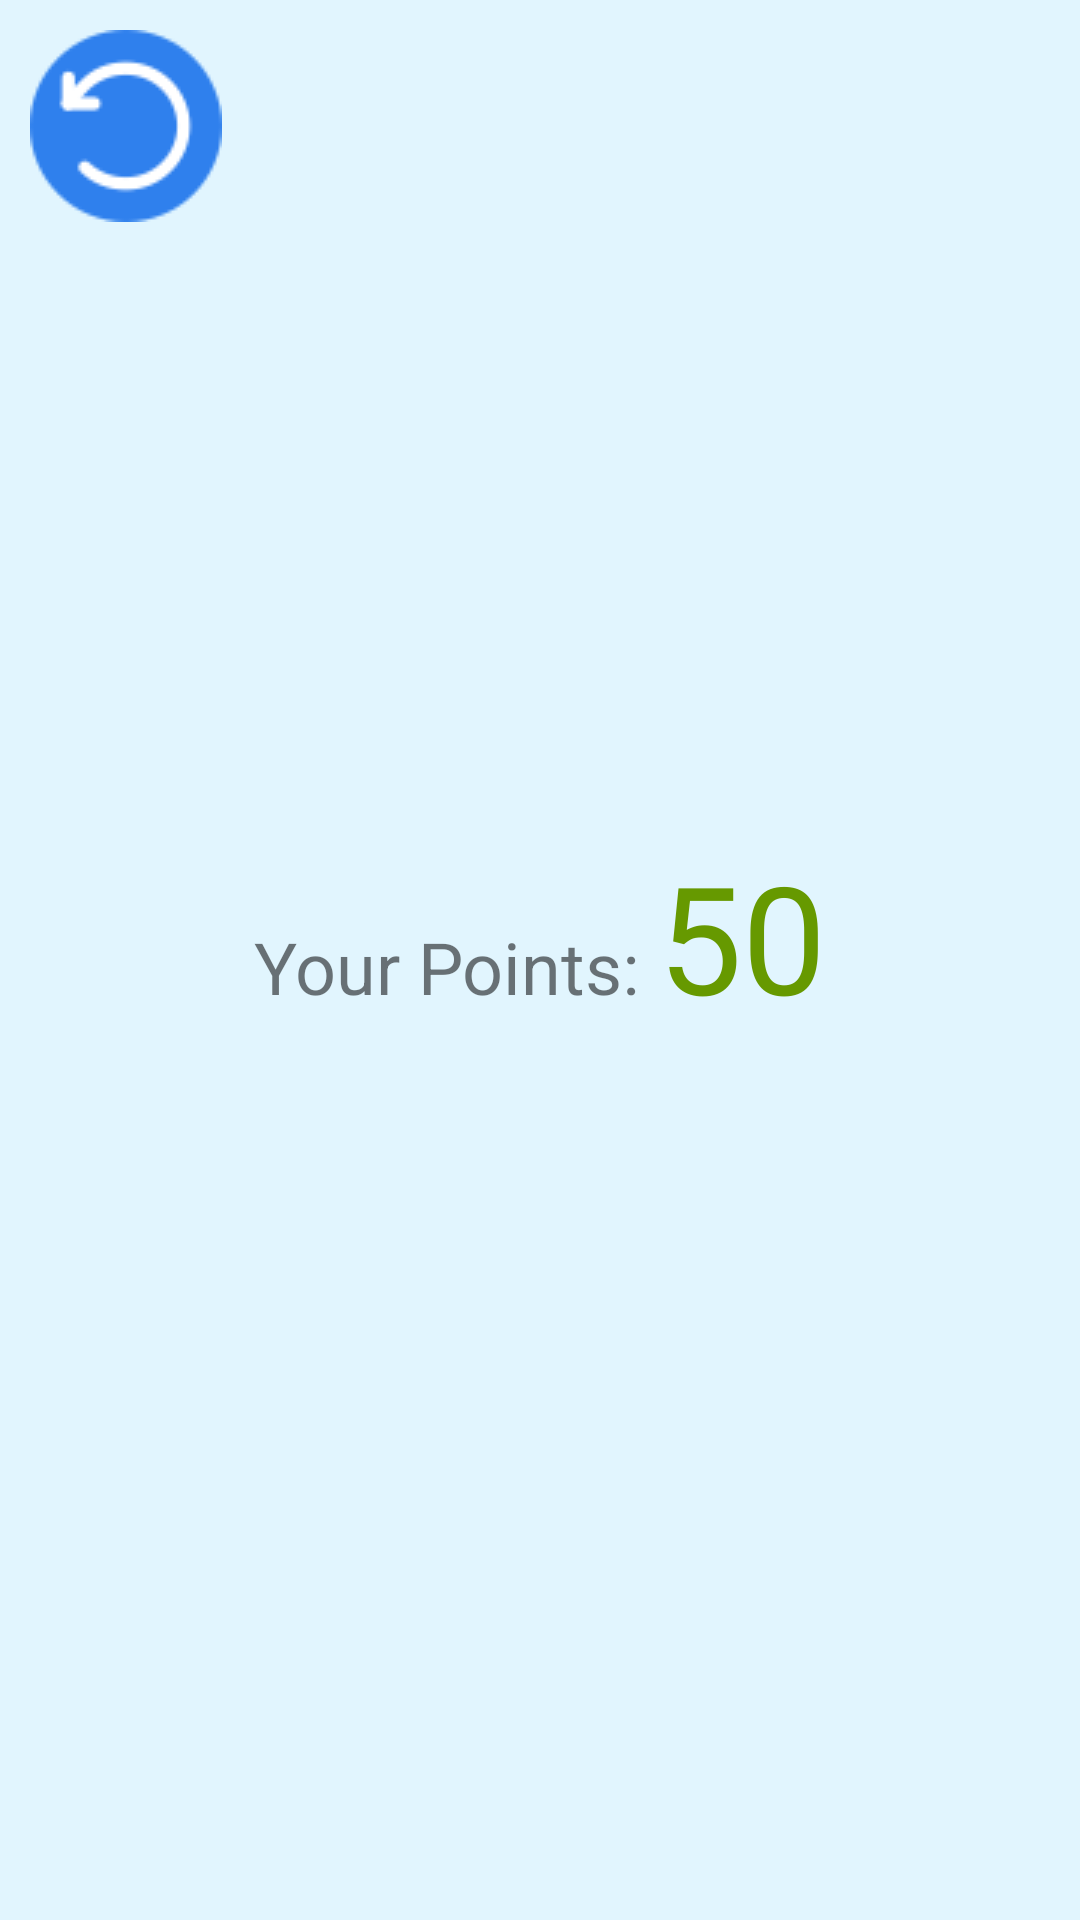

Icons on this 1080px x 1920px Android screen, each with the point to tap as point (x, y):
undo: point (126, 126)
